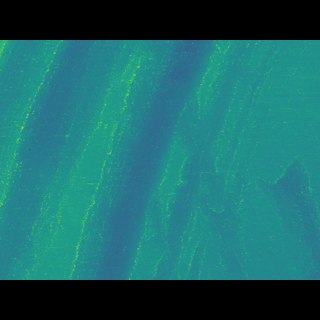Loch: (0, 70, 245, 250)
